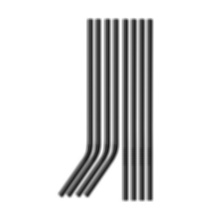drinking_straw: (145, 15, 158, 202)
